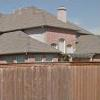Chimney: (53, 3, 76, 26)
